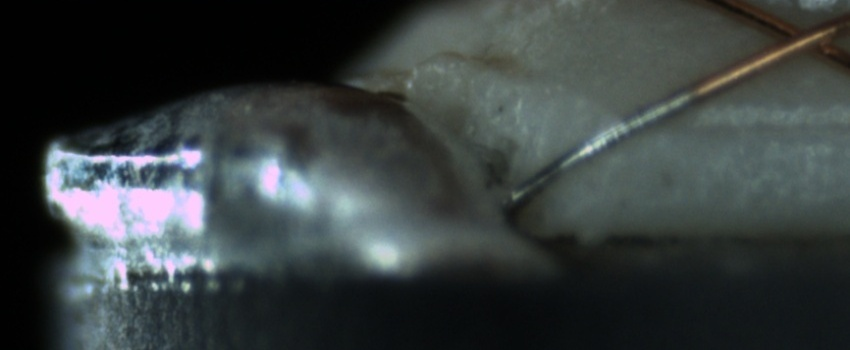CL: (752, 6, 848, 68)
DL: (645, 93, 849, 157)
TS: (509, 88, 696, 208)
TTCW: (509, 59, 750, 207)
